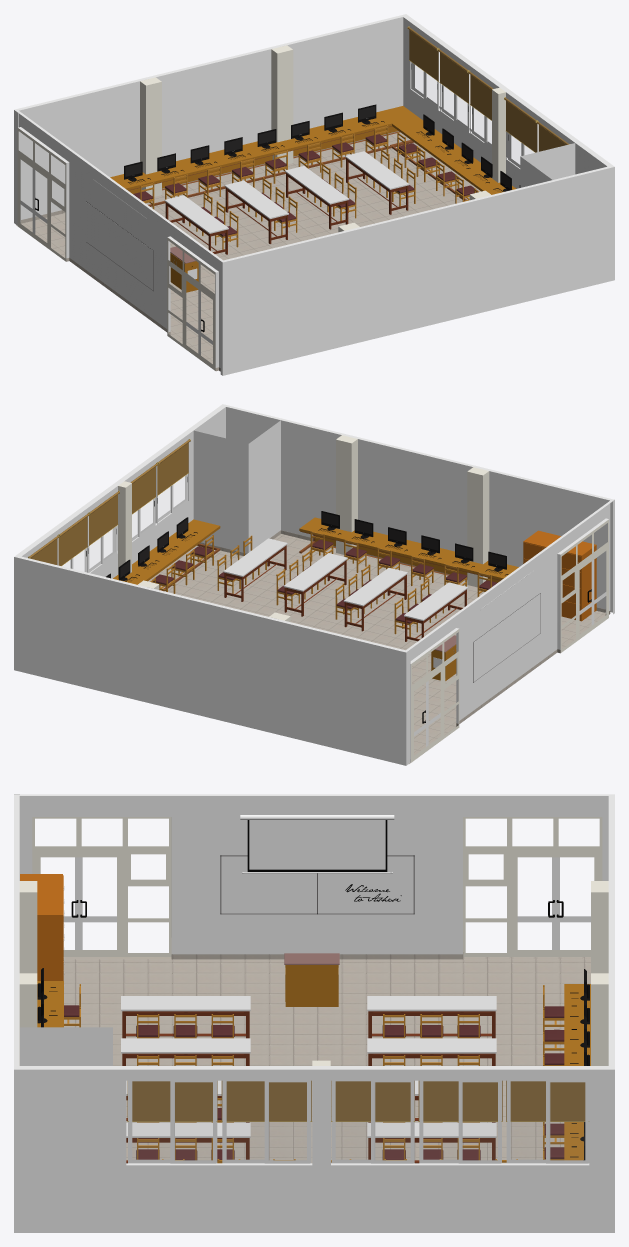
The model's file is computer_lab.glb.
3 renders of one model, top to bottom at view 1: azimuth 30°, elevation 25°; view 2: azimuth 150°, elevation 25°; view 3: azimuth 270°, elevation 25°, orthographic. The views are drawn at different scales.
Parts seen in each view (by area): view 1: Plane.004, Tiles01, LongTable, Cube.001, curtain, Chair.001, Plane.006, Computer, Cube.003, Chair, Plane.017, Plane.015 (+7 smaller); view 2: Plane.004, Tiles01, Plane.017, LongTable, Cube.002, curtain, Plane.006, curtain.001, Chair, Plane.012, Chair.003, Cube.003 (+9 smaller); view 3: Plane.004, Tiles01, LongTable, curtain, curtain.001, Plane.006, Plane.009, Chair, Plane.005, Plane.011, Plane.017, locker (+16 smaller).
Boxes of the visible parts, x1,y1,x2,y2 form: Plane.004: [14, 14, 614, 375]; Tiles01: [24, 132, 480, 360]; LongTable: [164, 151, 409, 254]; Cube.001: [110, 106, 417, 206]; curtain: [407, 26, 493, 149]; Chair.001: [133, 125, 388, 209]; Plane.006: [86, 202, 153, 290]; Computer: [124, 104, 384, 184]; Cube.003: [390, 116, 516, 200]; Chair: [189, 148, 415, 249]; Plane.017: [520, 143, 606, 187]; Plane.015: [271, 45, 293, 164]; Plane.004: [14, 404, 614, 765]; Tiles01: [148, 535, 602, 752]; Plane.017: [193, 407, 280, 553]; LongTable: [223, 538, 468, 641]; Cube.002: [299, 517, 518, 582]; curtain: [28, 490, 119, 573]; Plane.006: [473, 594, 540, 681]; curtain.001: [130, 439, 190, 542]; Chair: [217, 535, 443, 636]; Plane.012: [467, 467, 489, 587]; Chair.003: [310, 531, 497, 597]; Cube.003: [113, 519, 220, 591]; Plane.004: [14, 794, 614, 1232]; Tiles01: [63, 962, 590, 1163]; LongTable: [121, 996, 496, 1163]; curtain: [331, 1080, 589, 1163]; curtain.001: [127, 1080, 312, 1163]; Plane.006: [221, 856, 413, 913]; Plane.009: [247, 820, 387, 871]; Chair: [136, 1014, 480, 1163]; Plane.005: [463, 817, 602, 956]; Plane.011: [32, 817, 171, 956]; Plane.017: [20, 1027, 112, 1065]; locker: [20, 874, 62, 980].
Size of what is drawn, in the model's own units: 173 by 47.88 by 159.
31 materials, 6 textured.
